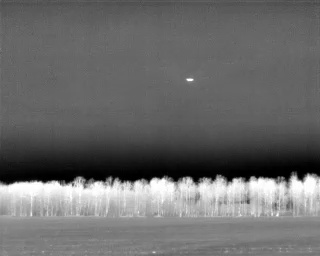DRONE: (183, 74, 197, 86)
